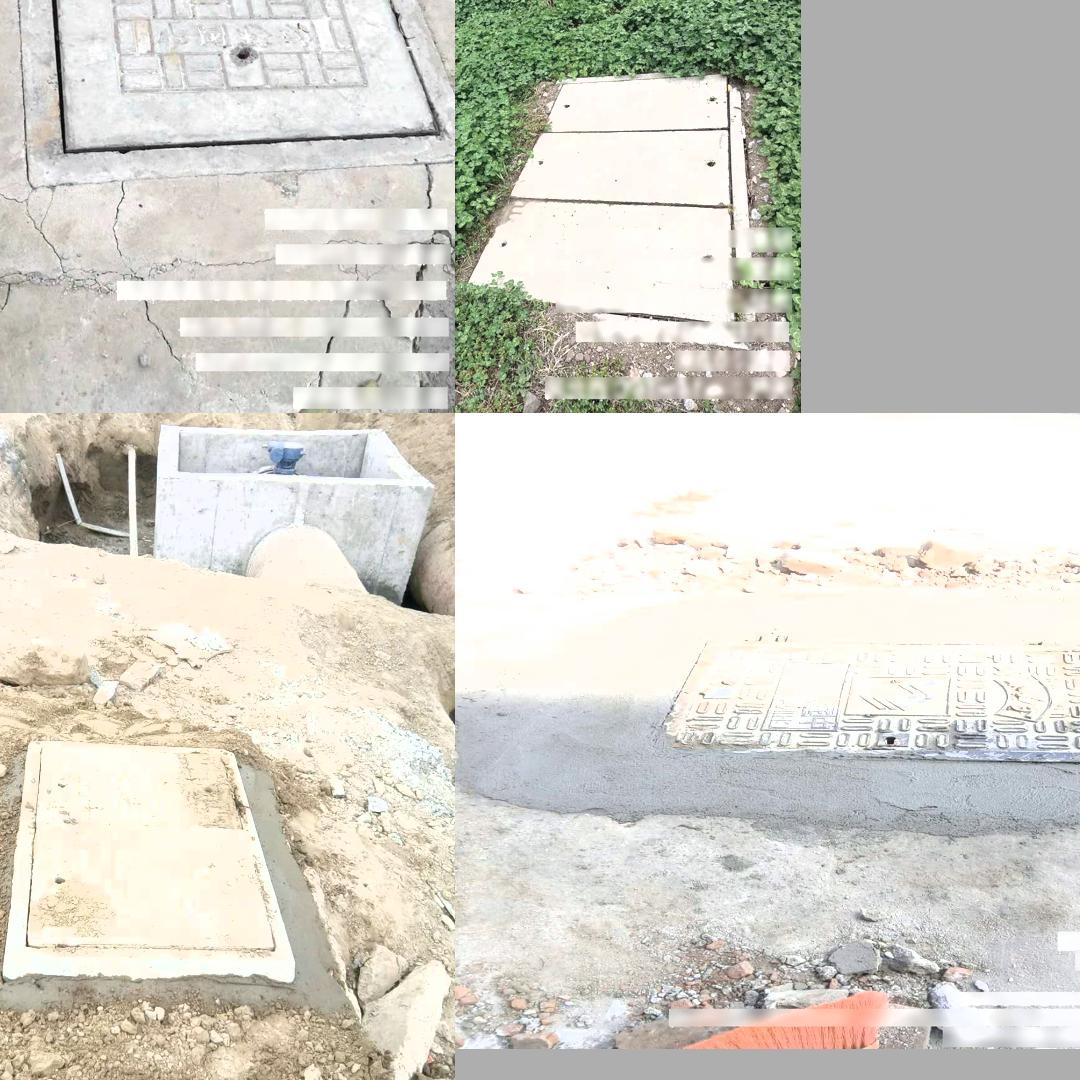good: (10, 0, 454, 185), (465, 66, 753, 348), (0, 741, 296, 979), (652, 636, 1080, 764)
